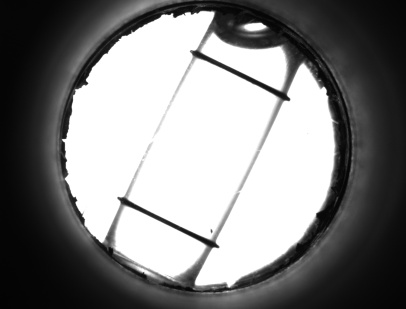line: (129, 198, 200, 245), (204, 52, 273, 97)
